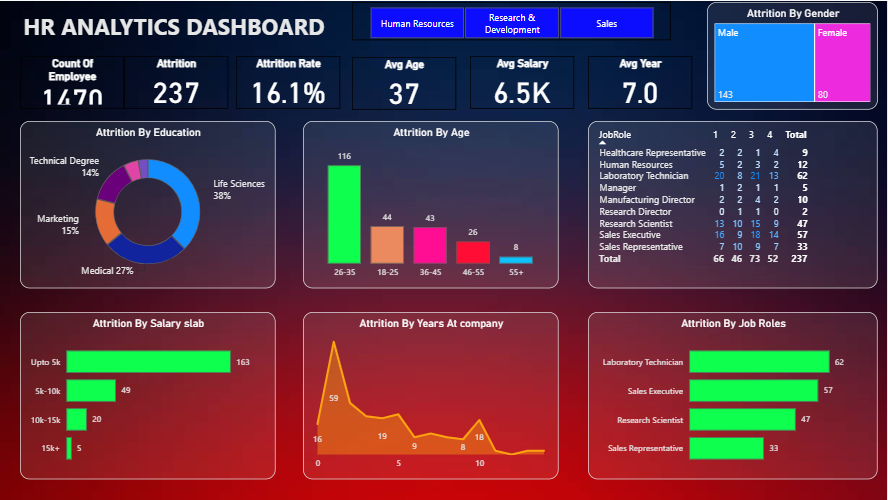

The page's visual inventory and layout, read from the dashboard file:
{"tool":"powerbi","page":{"name":"Page 1","canvas":[1280,720],"ordinal":0},"visuals":[{"type":"card","title":"Count Of Employee","fields":{"Values":["CountNonNull(HR_Analytics (1).EmpID)"]},"box":[29.9,79.2,149.7,75.7],"z":0},{"type":"card","title":"Attrition","fields":{"Values":["Sum(HR_Analytics (1).AttritionCount)"]},"box":[179.6,79.2,149.7,75.7],"z":1000},{"type":"card","title":"Avg Age","fields":{"Values":["Avg(HR_Analytics (1).Age)"]},"box":[508.8,81,149.7,75.7],"z":2000},{"type":"card","title":"Attrition Rate","fields":{"Values":["HR_Analytics (1).AttritionRate"]},"box":[341.6,79.2,149.7,75.7],"z":3000},{"type":"card","title":"Avg Salary","fields":{"Values":["Avg(HR_Analytics (1).MonthlyIncome)"]},"box":[677.9,79.2,149.7,75.7],"z":4000},{"type":"card","title":"Avg Year","fields":{"Values":["Avg(HR_Analytics (1).YearsAtCompany)"]},"box":[848.6,79.2,149.7,75.7],"z":5000},{"type":"donutChart","title":"Attrition By Education","fields":{"Category":["HR_Analytics (1).EducationField"],"Y":["Sum(HR_Analytics (1).AttritionCount)"]},"box":[29.9,172.5,368,241.2],"z":6000},{"type":"columnChart","title":"Attrition By Age","fields":{"Category":["HR_Analytics (1).AgeGroup"],"Y":["Sum(HR_Analytics (1).AttritionCount)"]},"box":[438.4,172.5,368,241.2],"z":7000},{"type":"pivotTable","fields":{"Rows":["HR_Analytics (1).JobRole"],"Columns":["HR_Analytics (1).JobSatisfaction"],"Values":["Sum(HR_Analytics (1).AttritionCount)"]},"box":[848.6,172.5,417.3,241.2],"z":8000},{"type":"barChart","title":"Attrition By Salary slab","fields":{"Category":["HR_Analytics (1).SalarySlab"],"Y":["Sum(HR_Analytics (1).AttritionCount)"]},"box":[29.9,447.2,368,241.2],"z":9000},{"type":"barChart","title":"Attrition By Job Roles","fields":{"Category":["HR_Analytics (1).JobRole"],"Y":["Sum(HR_Analytics (1).AttritionCount)"]},"box":[848.6,447.2,417.3,241.2],"z":10000},{"type":"stackedAreaChart","title":"Attrition By Years  At company ","fields":{"Category":["HR_Analytics (1).YearsAtCompany"],"Y":["Sum(HR_Analytics (1).AttritionCount)"]},"box":[438.4,447.2,368,241.2],"z":11000},{"type":"treemap","title":"Attrition By Gender","fields":{"Group":["HR_Analytics (1).Gender"],"Values":["Sum(HR_Analytics (1).AttritionCount)"]},"box":[1019.4,1.8,246.5,154.9],"z":12000},{"type":"slicer","fields":{"Values":["HR_Analytics (1).Department"]},"box":[508.3,1.4,459.4,54.7],"z":13000},{"type":"textbox","box":[29.9,8.8,508.8,54.6],"z":14000}]}

Visuals, with their boxes in screenshot pixels (x1, y1, x2, y2), scaled from the page's 1280x720 canvas onto the 888x500 screenshot:
"Count Of Employee" card: [21,55,125,108]
"Attrition" card: [125,55,228,108]
"Avg Age" card: [353,56,457,109]
"Attrition Rate" card: [237,55,341,108]
"Avg Salary" card: [470,55,574,108]
"Avg Year" card: [589,55,693,108]
"Attrition By Education" donutChart: [21,120,276,287]
"Attrition By Age" columnChart: [304,120,559,287]
pivotTable - HR_Analytics (1).JobRole x HR_Analytics (1).JobSatisfaction: [589,120,878,287]
"Attrition By Salary slab" barChart: [21,311,276,478]
"Attrition By Job Roles" barChart: [589,311,878,478]
"Attrition By Years  At company " stackedAreaChart: [304,311,559,478]
"Attrition By Gender" treemap: [707,1,878,109]
slicer - HR_Analytics (1).Department: [353,1,671,39]
textbox: [21,6,374,44]
